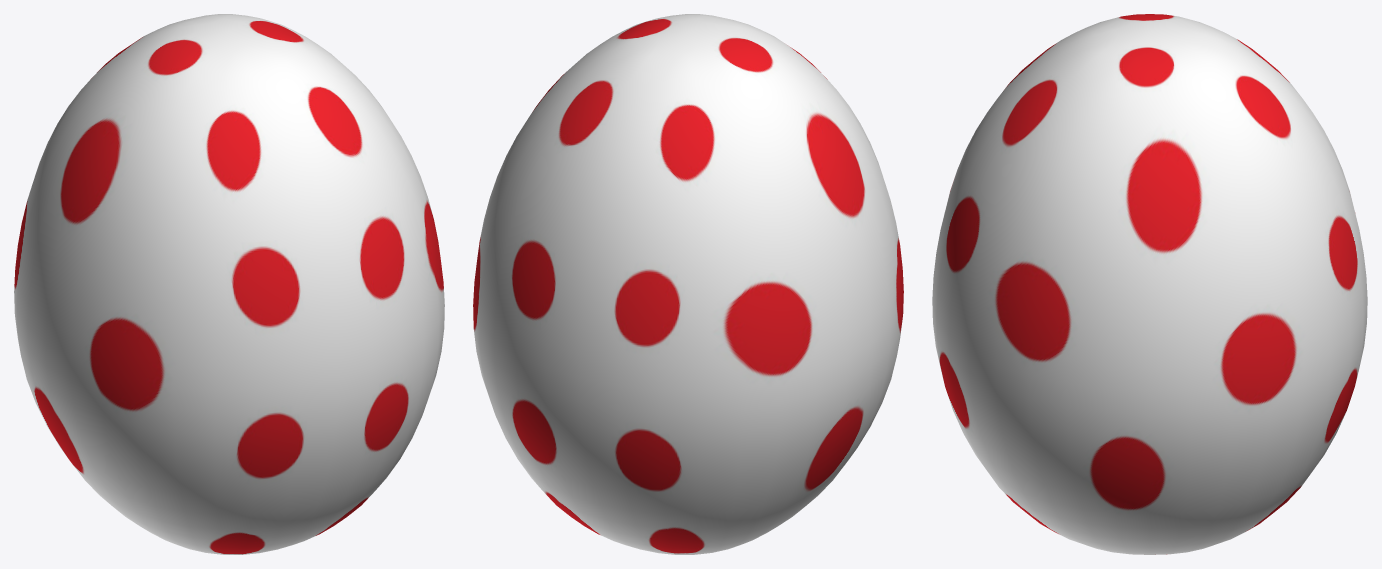
Rendered from polkadot_egg.fbx.
3 views of the same model, side by side, from view 1: azimuth 30°, elevation 25°; view 2: azimuth 150°, elevation 25°; view 3: azimuth 270°, elevation 25° (orthographic).
Parts seen in each view (by area): view 1: pSphere2; view 2: pSphere2; view 3: pSphere2.
Boxes of the visible parts, x1,y1,x2,y2 form: pSphere2: [14, 14, 444, 554]; pSphere2: [473, 14, 903, 554]; pSphere2: [932, 14, 1367, 554].
Size of the model in its own units: 3.99 by 5.21 by 4.09.
Materials: 1 (1 with a texture image).
